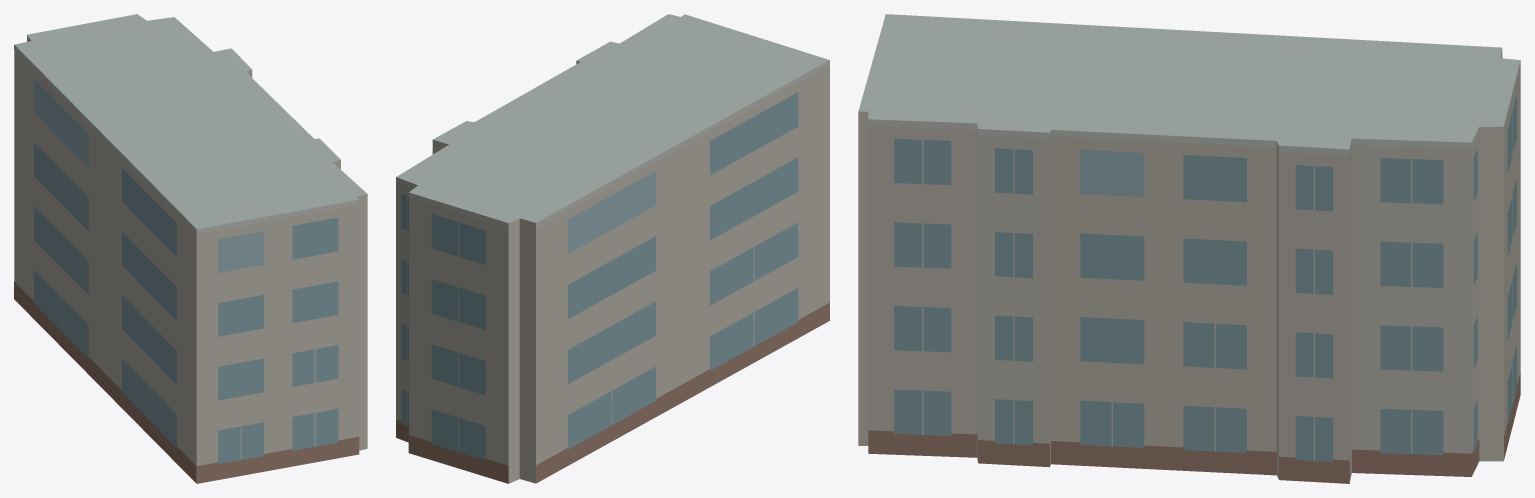
The model's file is survey-upis-32643771.glb.
3 views of the same model, side by side, from view 1: azimuth 30°, elevation 25°; view 2: azimuth 150°, elevation 25°; view 3: azimuth 270°, elevation 25° (orthographic). The views are drawn at different scales.
Visible parts, largest first — view 1: survey-upis-32643771.tmp; view 2: survey-upis-32643771.tmp; view 3: survey-upis-32643771.tmp.
Boxes of the visible parts, x1,y1,x2,y2 form: survey-upis-32643771.tmp: [14, 14, 367, 483]; survey-upis-32643771.tmp: [396, 14, 829, 483]; survey-upis-32643771.tmp: [858, 14, 1520, 483].
Size of the model in its own units: 11.13 by 12.8 by 22.98.
